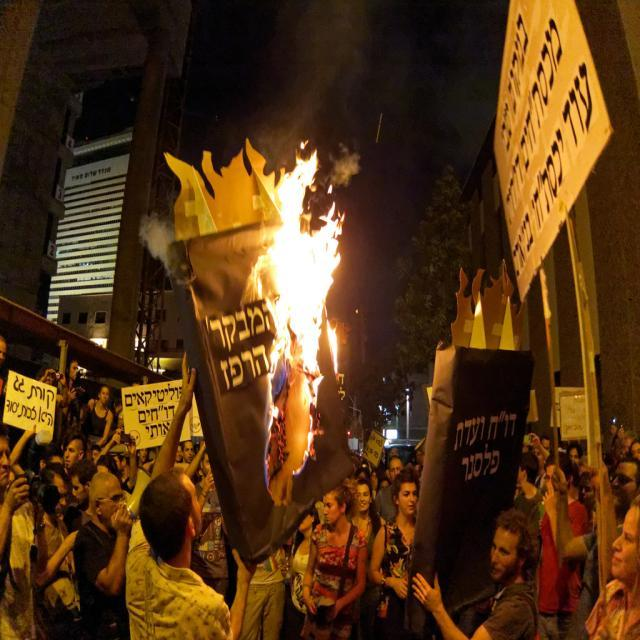Fire: (265, 174, 339, 344)
